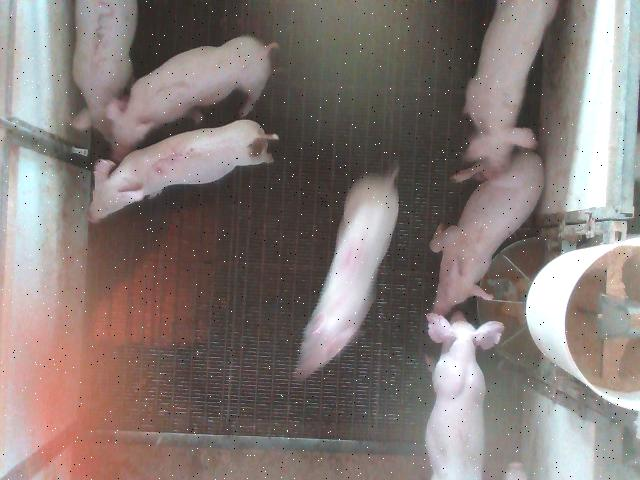pig-3: (72, 0, 138, 142)
pig-4: (295, 168, 399, 379)
pig-5: (88, 120, 278, 222)
